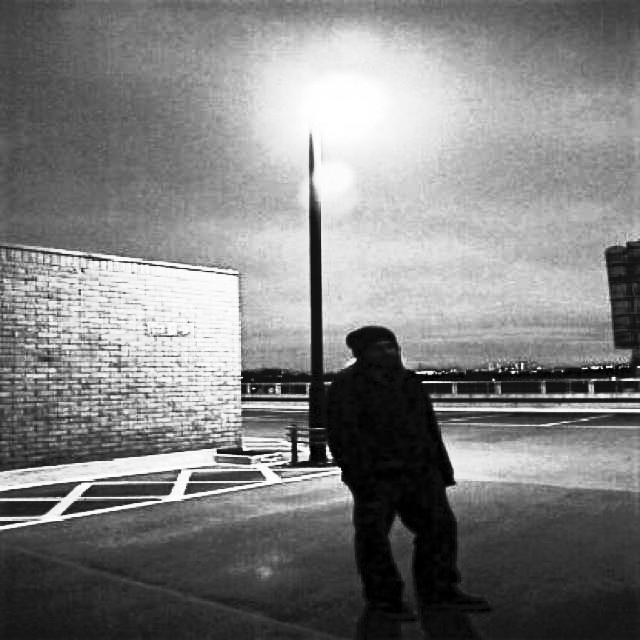Person: (318, 323, 506, 628)
